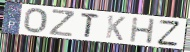H: (129, 17, 157, 45)
K: (105, 15, 127, 42)
O: (23, 7, 49, 34)
T: (80, 12, 101, 39)
Z: (48, 9, 75, 38), (156, 19, 181, 47)
